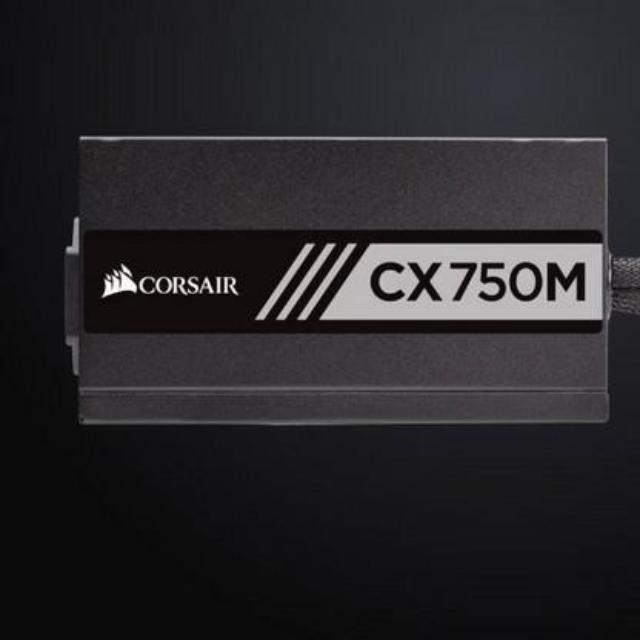PSU: (43, 108, 640, 450)
